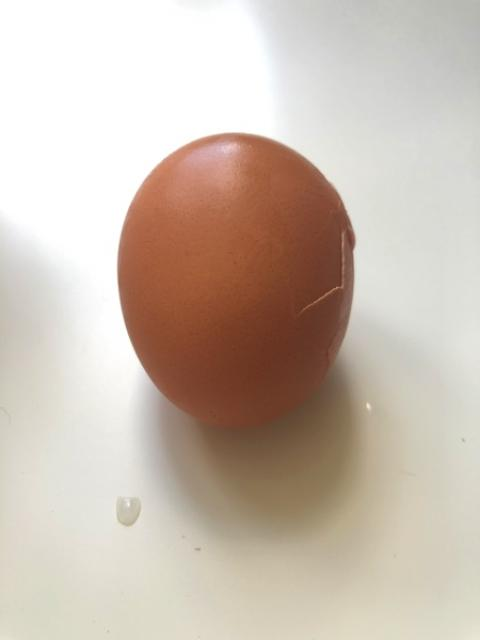Roto: (115, 130, 356, 429)
